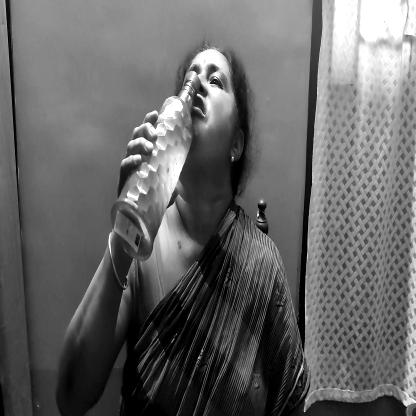Distracted: (187, 44, 245, 176)
